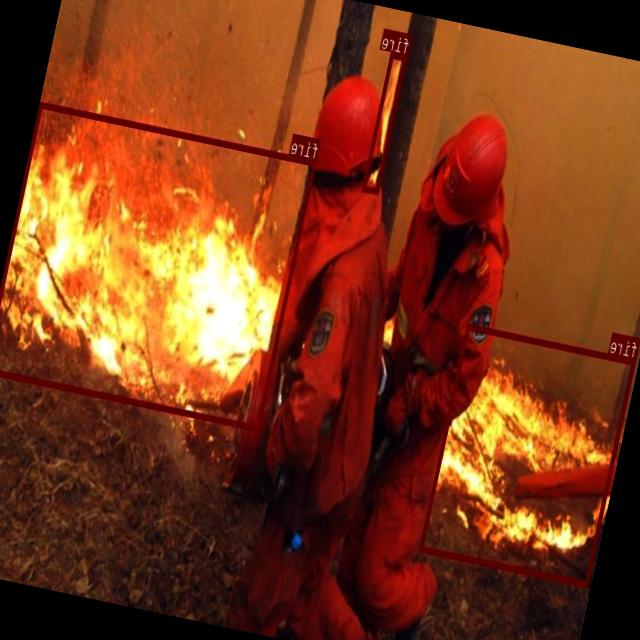fire: (0, 100, 317, 429), (419, 322, 636, 586), (362, 51, 408, 193)
